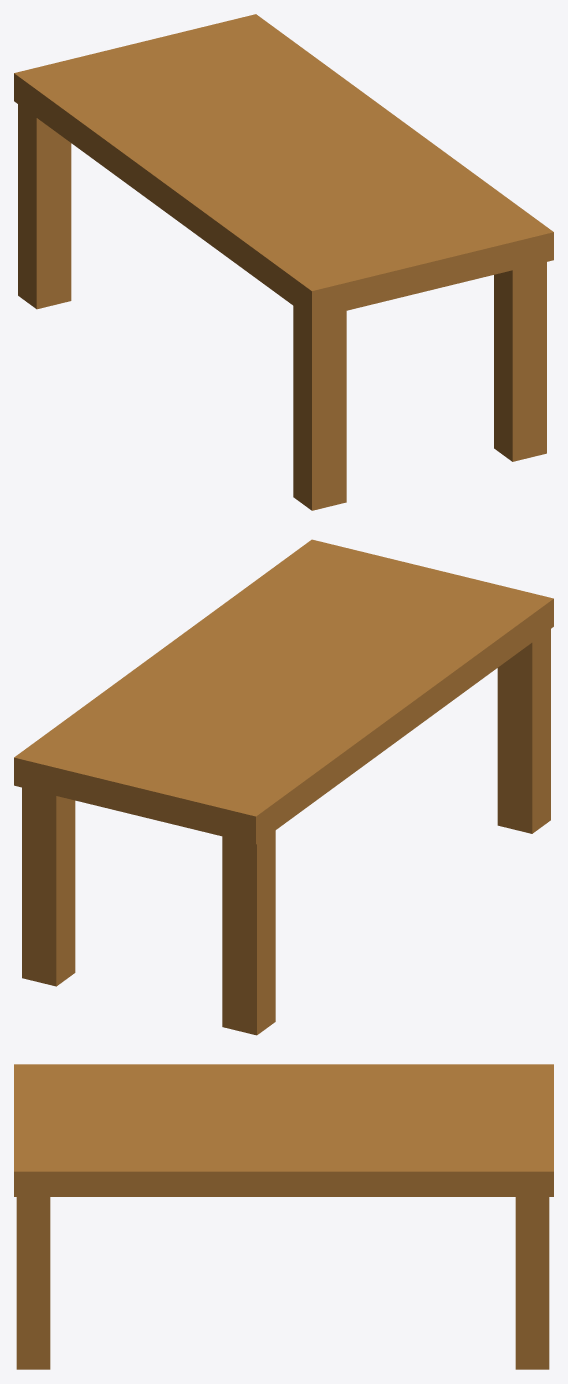
The model's file is Table_color.fbx.
The picture shows the model from 3 angles, top to bottom: view 1: azimuth 30°, elevation 25°; view 2: azimuth 150°, elevation 25°; view 3: azimuth 270°, elevation 25°; orthographic projection. The views are drawn at different scales.
Visible parts, largest first — view 1: pCube1, pCube3, pCube2, pCube4; view 2: pCube1, pCube4, pCube5, pCube3; view 3: pCube1, pCube2, pCube5.
Boxes of the visible parts, box(x1,y1,x2,y2) form: pCube1: box(14, 14, 553, 318); pCube3: box(293, 306, 346, 510); pCube2: box(494, 262, 546, 461); pCube4: box(18, 104, 71, 309); pCube1: box(14, 539, 553, 844); pCube4: box(222, 830, 275, 1035); pCube5: box(22, 787, 75, 986); pCube3: box(497, 629, 550, 833); pCube1: box(14, 1064, 553, 1196); pCube2: box(16, 1197, 50, 1369); pCube5: box(515, 1197, 549, 1369).
Size of the model in its own units: 7.05 by 6.15 by 15.02.
